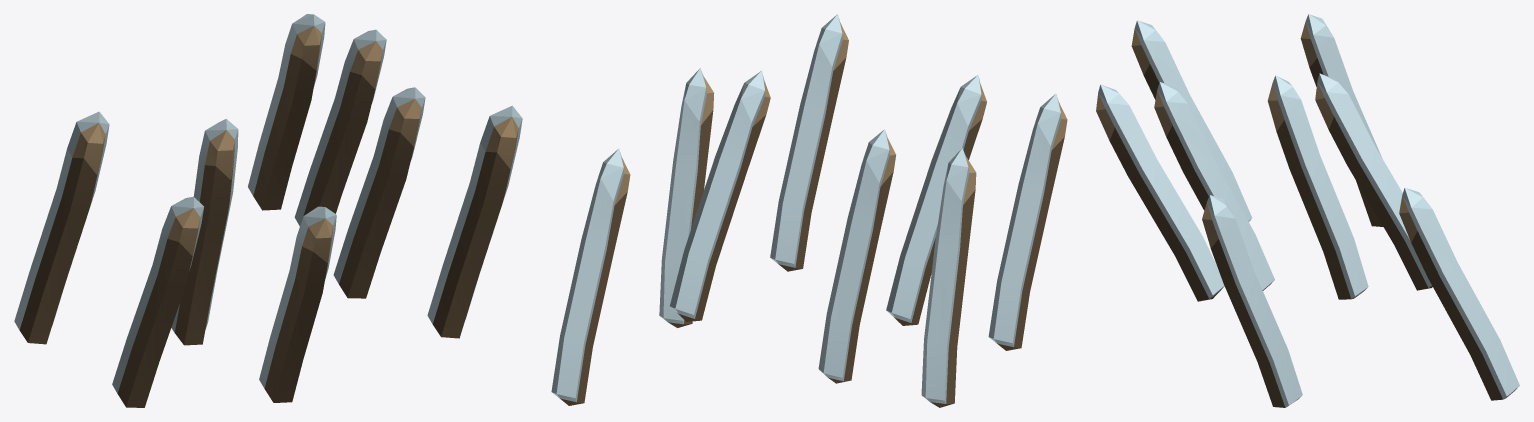
File: Puas_Zanja.glb
3 views of the same model, side by side, from view 1: azimuth 30°, elevation 25°; view 2: azimuth 150°, elevation 25°; view 3: azimuth 270°, elevation 25° (orthographic). The views are drawn at different scales.
Parts seen in each view (by area): view 1: SM_Env_Trench_Spikes_01_Snow; view 2: SM_Env_Trench_Spikes_01_Snow; view 3: SM_Env_Trench_Spikes_01_Snow.
Boxes of the visible parts, x1,y1,x2,y2 form: SM_Env_Trench_Spikes_01_Snow: (14,14,522,407); SM_Env_Trench_Spikes_01_Snow: (551,14,1067,407); SM_Env_Trench_Spikes_01_Snow: (1096,14,1519,407).
Size of the model in its own units: 2.53 by 2.01 by 2.71.
1 material, 1 textured.
